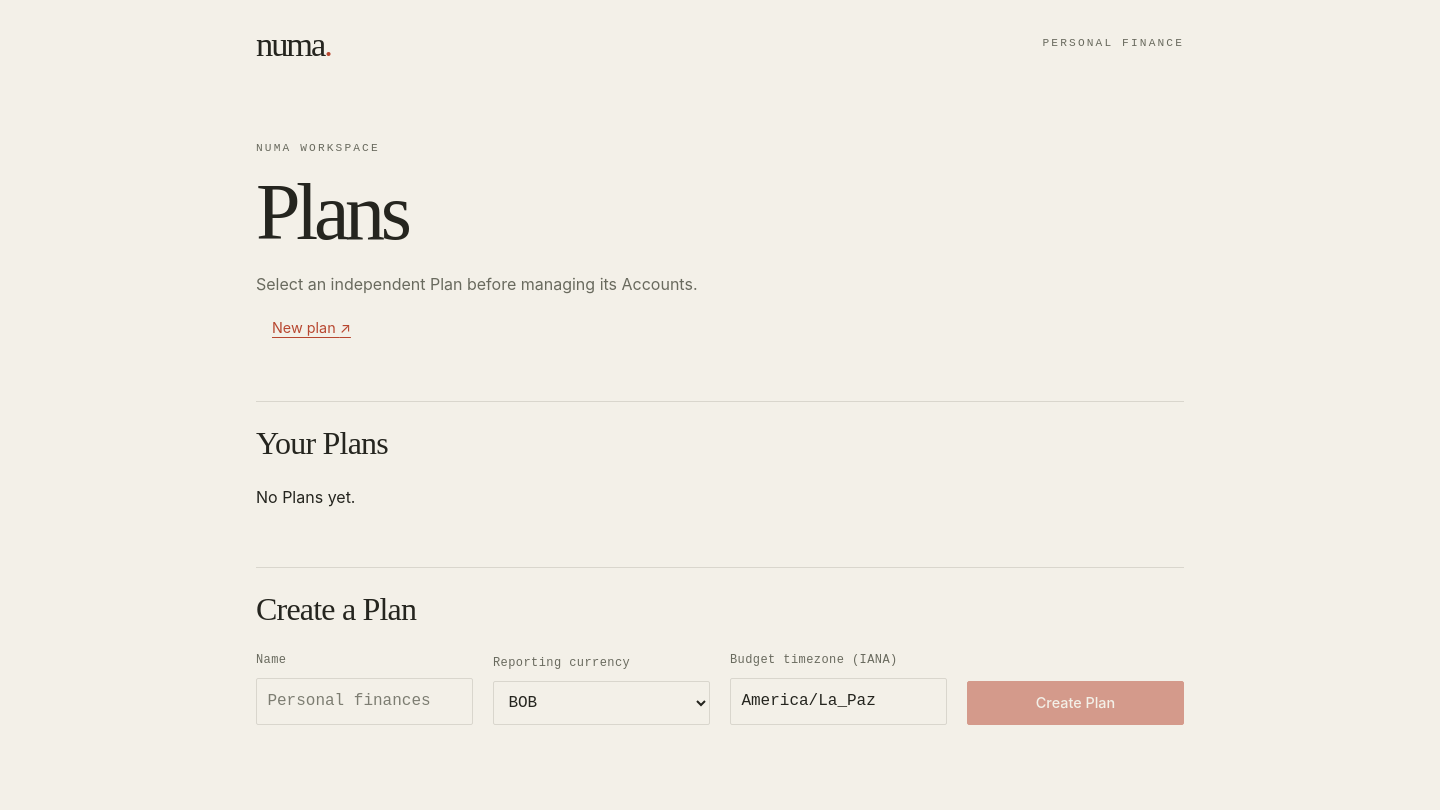
Scenario: minimal authoritative client flows › creates and selects a Plan using server responses
The image size is (1440, 810).
Expected: the heading "Plans" is shown, [256, 168, 407, 256]
Type "Personal Plan" into the field labelled "Name" at (364, 702), box [256, 678, 473, 725]
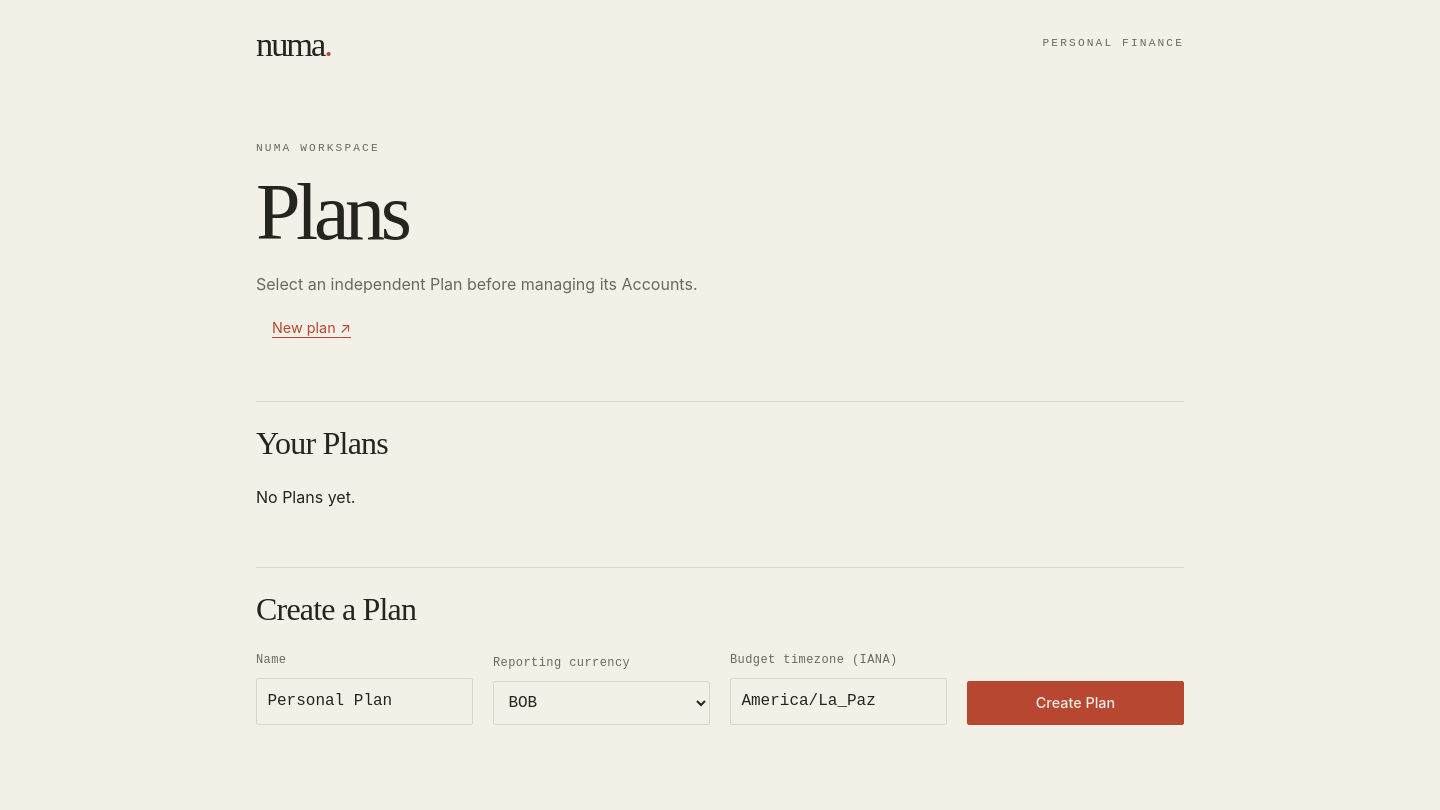
Click the button "Create Plan" at (1076, 703), box [967, 681, 1184, 725]
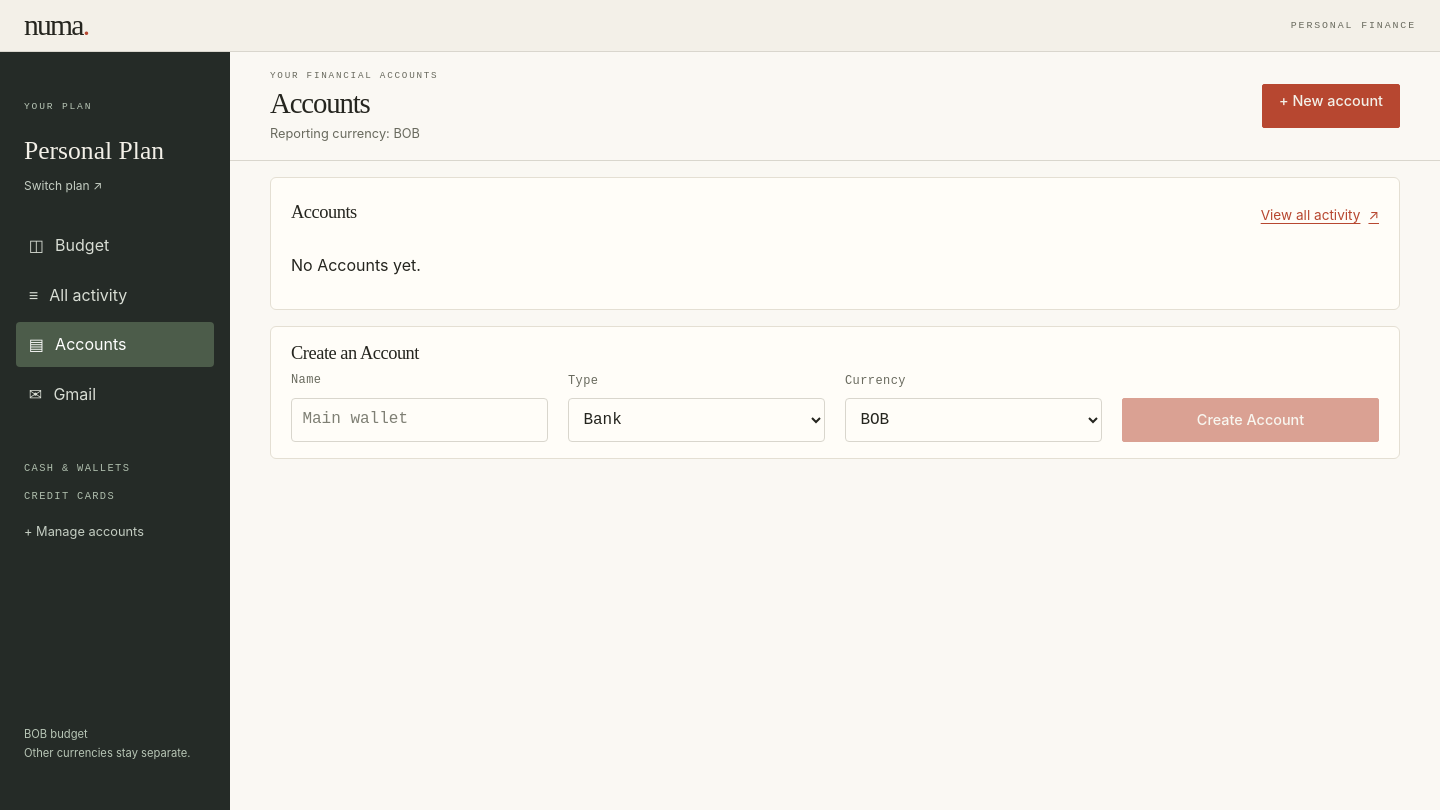
Now the heading "Accounts" below "Your financial accounts" is shown, box [270, 87, 370, 119]
Now the text "Personal Plan" is shown, box [24, 136, 164, 164]
